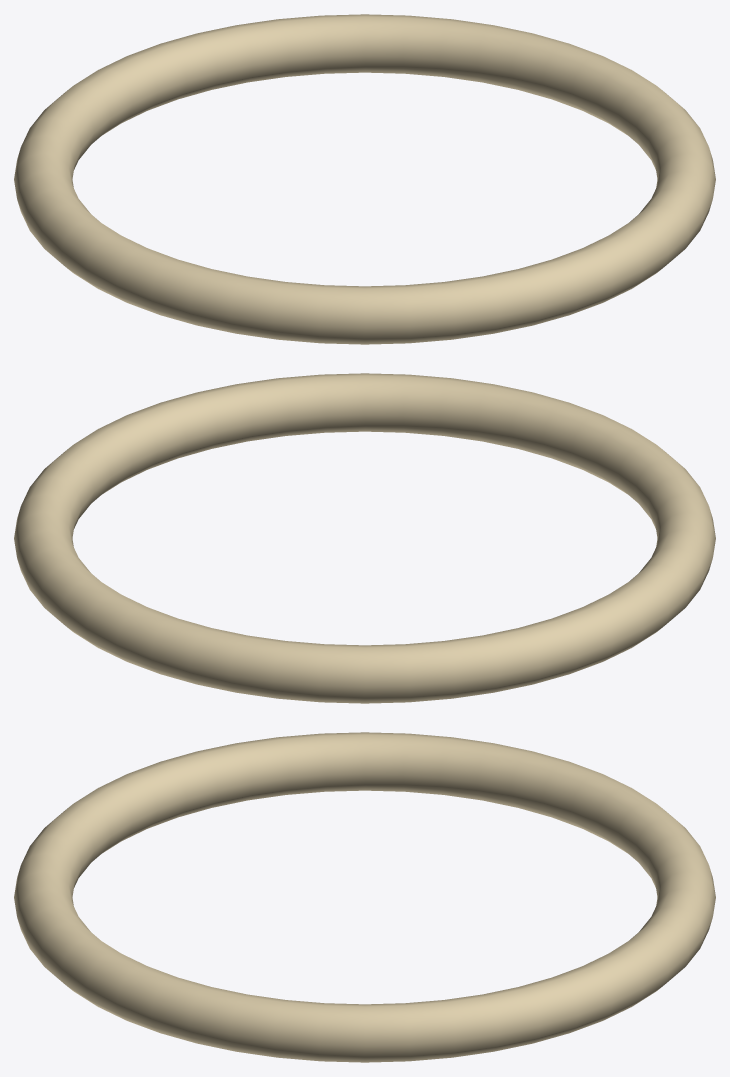
The model's file is string.glb.
3 views of the same model, one above another, from view 1: azimuth 30°, elevation 25°; view 2: azimuth 150°, elevation 25°; view 3: azimuth 270°, elevation 25° (orthographic).
Visible parts, largest first — view 1: Torus; view 2: Torus; view 3: Torus.
Boxes of the visible parts, x1,y1,x2,y2 form: Torus: [14, 14, 715, 344]; Torus: [14, 373, 715, 703]; Torus: [14, 732, 715, 1062].
Bounding box in the file's own units: 0.24 × 0.02 × 0.24.
